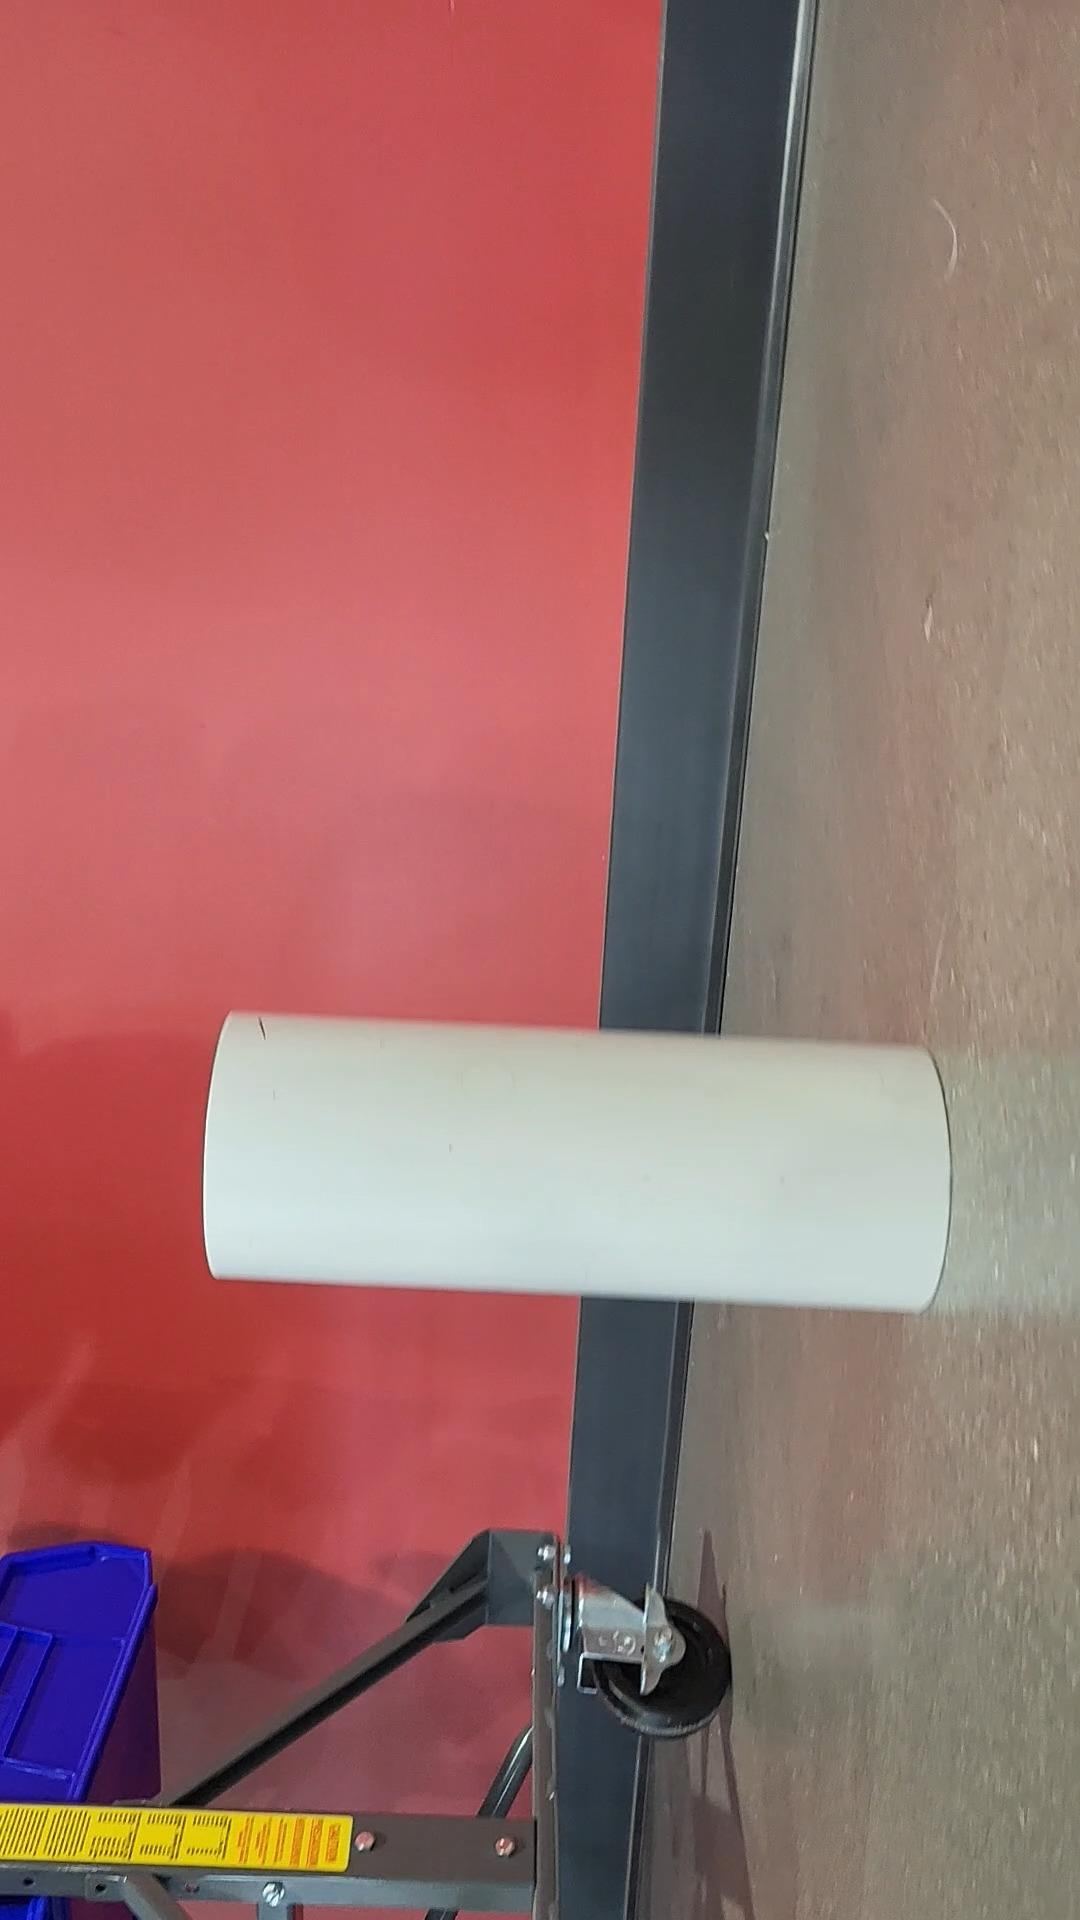coral: (203, 1015, 952, 1309)
